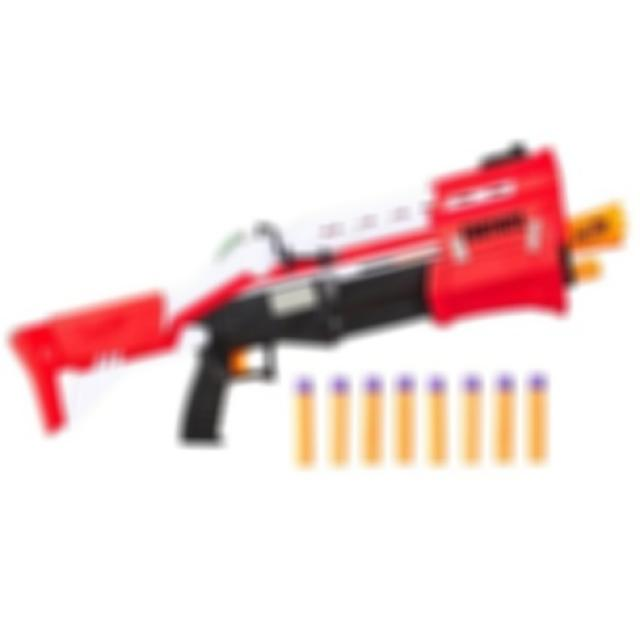Nerf gun: (8, 136, 627, 448)
